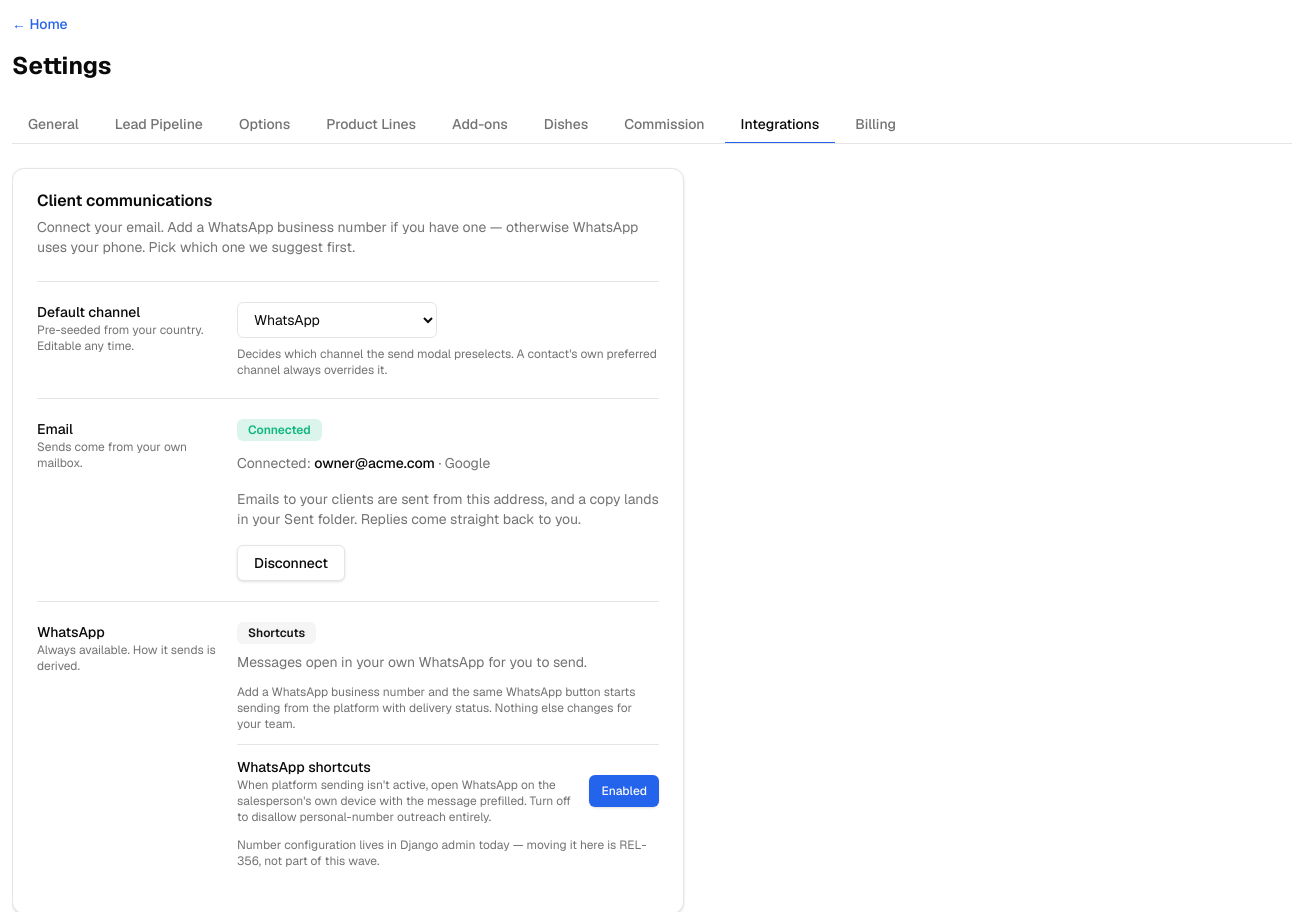
Test case: Settings → Integrations → Client email › surfaces a failed disconnect instead of pretending it worked
Click the button "Disconnect".
click(291, 563)  # box top-left (237, 545), bottom-right (345, 581)
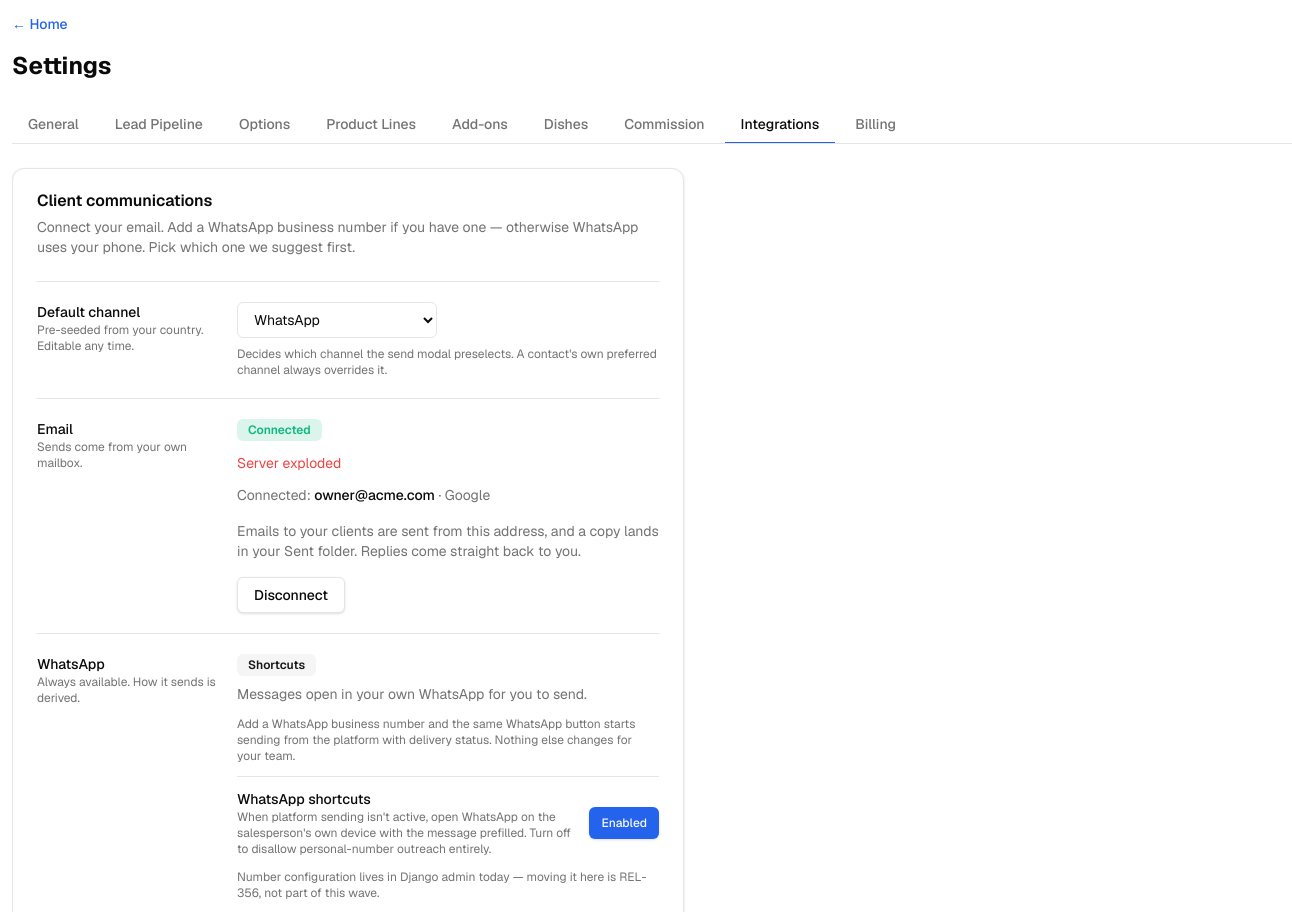
Expected: the text "Server exploded" is shown, top-left (237, 454), bottom-right (341, 472)
